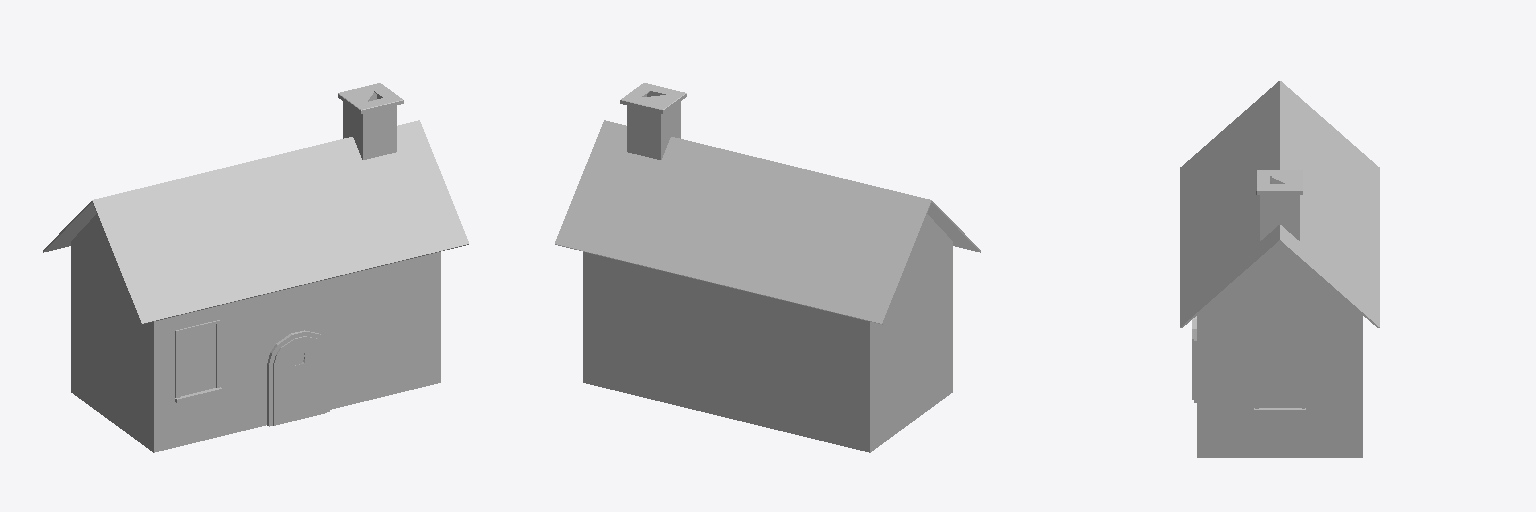
Rendered from House_B.obj.
3 views of the same model, side by side, from view 1: azimuth 30°, elevation 25°; view 2: azimuth 150°, elevation 25°; view 3: azimuth 270°, elevation 25° (orthographic).
Visible parts, largest first — view 1: Cube.005_Cube.012; view 2: Cube.005_Cube.012; view 3: Cube.005_Cube.012.
Part boxes in pixels (x1,y1,x2,y2): Cube.005_Cube.012: (43, 83, 468, 452); Cube.005_Cube.012: (555, 83, 980, 452); Cube.005_Cube.012: (1180, 81, 1379, 457).
Bounding box in the file's own units: 4.56 × 3.5 × 2.4.